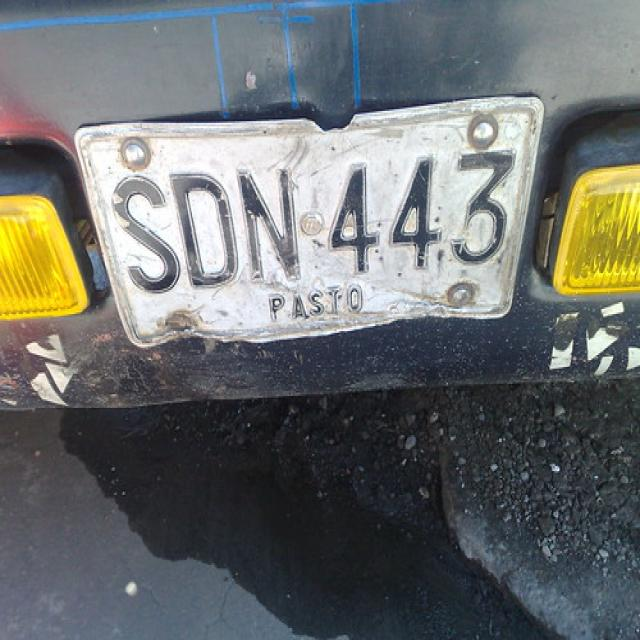placas: (106, 135, 528, 297)
